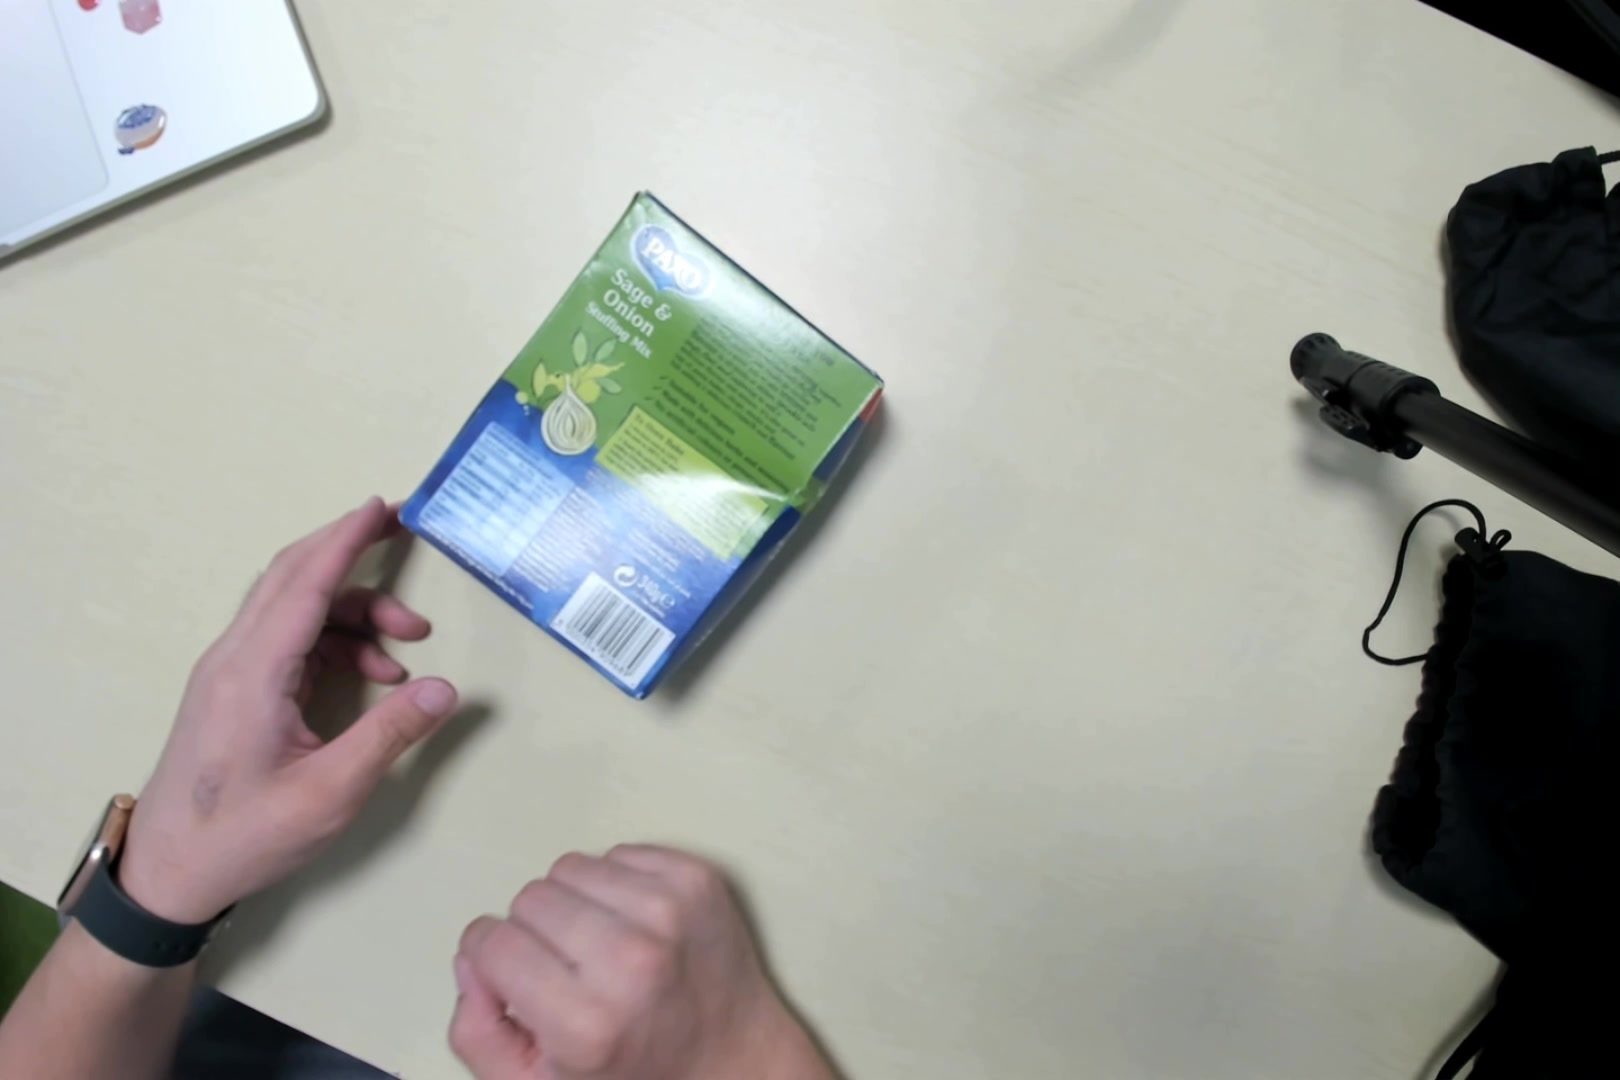OtherBakingNeeds_300-399g_NonHalal_NonHealthy: (397, 190, 891, 703)
